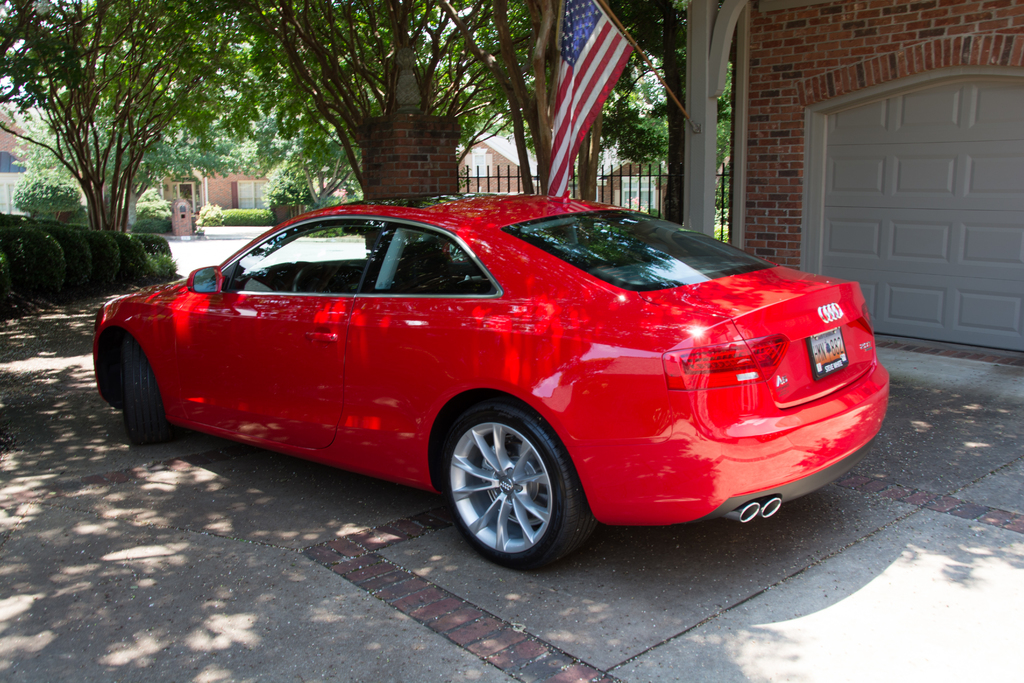Car: (83, 183, 894, 583)
